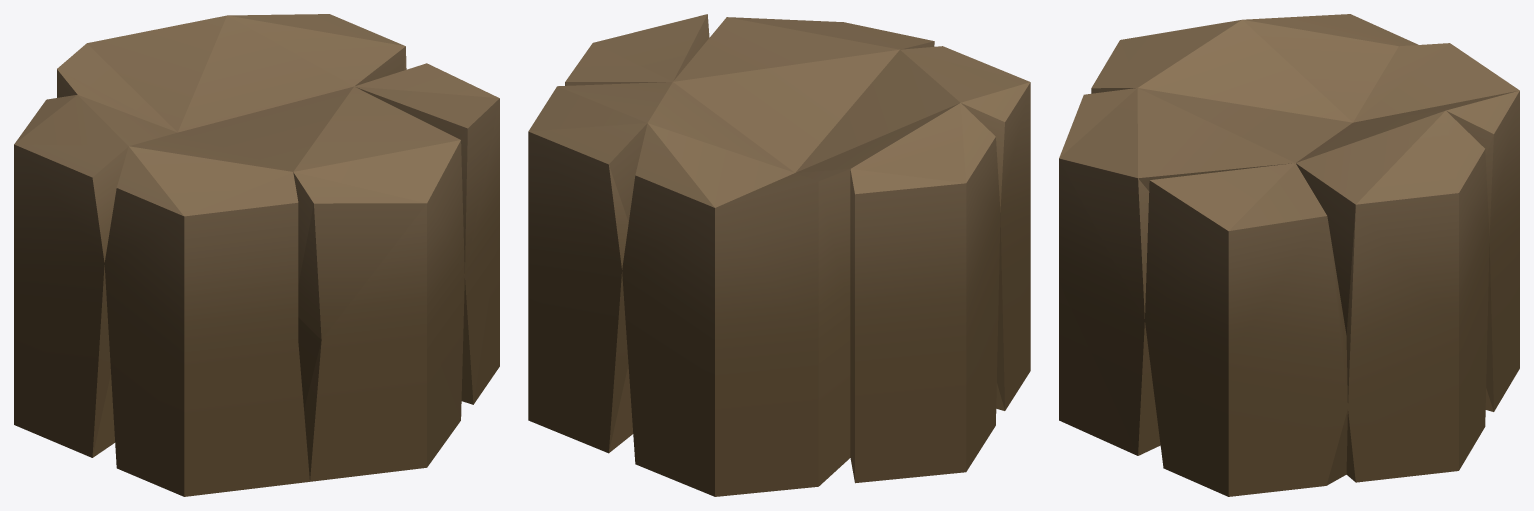
File: ChoppingBlock.gltf
The picture shows the model from 3 angles, left to right: view 1: azimuth 30°, elevation 25°; view 2: azimuth 150°, elevation 25°; view 3: azimuth 270°, elevation 25°; orthographic projection. The views are drawn at different scales.
Visible parts, largest first — view 1: ChoppingBlock; view 2: ChoppingBlock; view 3: ChoppingBlock.
Boxes of the visible parts, x1,y1,x2,y2 form: ChoppingBlock: [14, 14, 499, 496]; ChoppingBlock: [528, 14, 1030, 496]; ChoppingBlock: [1059, 14, 1519, 496].
Size of the model in its own units: 1 by 0.6995 by 0.95.
1 material, 1 textured.
